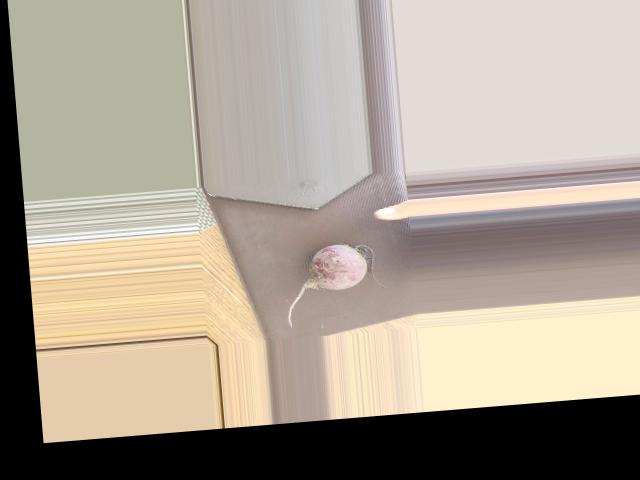beet: (281, 241, 386, 326)
